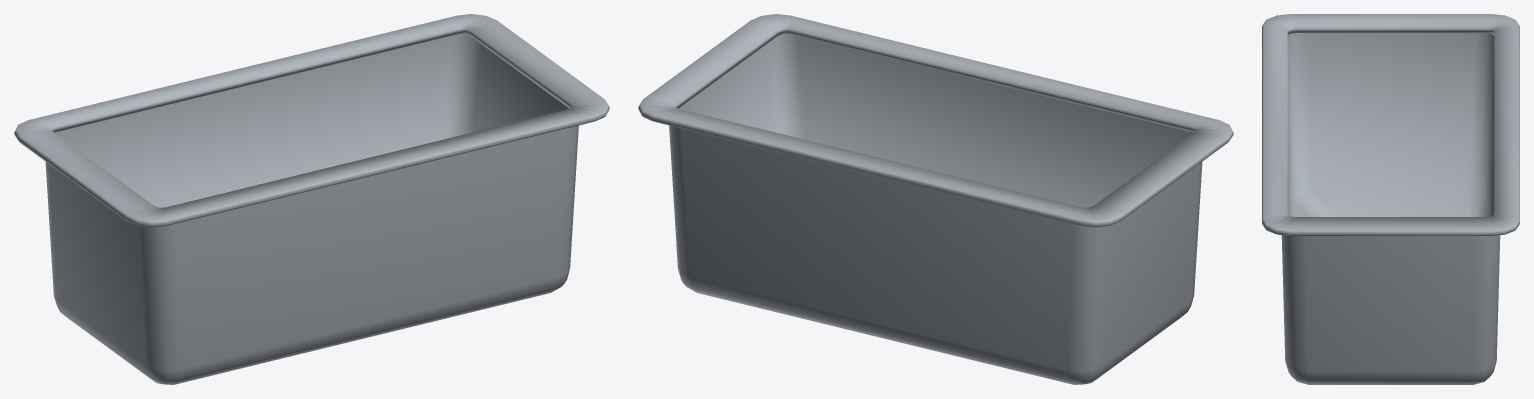
The model's file is Kitchen-Tub-1.fbx.
The picture shows the model from 3 angles, left to right: view 1: azimuth 30°, elevation 25°; view 2: azimuth 150°, elevation 25°; view 3: azimuth 270°, elevation 25°; orthographic projection. The views are drawn at different scales.
Visible parts, largest first — view 1: Kitchen-Tub-1; view 2: Kitchen-Tub-1; view 3: Kitchen-Tub-1.
Boxes of the visible parts, <box> form: Kitchen-Tub-1: <box>14,14,609,384</box>; Kitchen-Tub-1: <box>638,14,1233,384</box>; Kitchen-Tub-1: <box>1262,14,1519,384</box>.
Bounding box in the file's own units: 0.8 × 0.2994 × 0.4.
